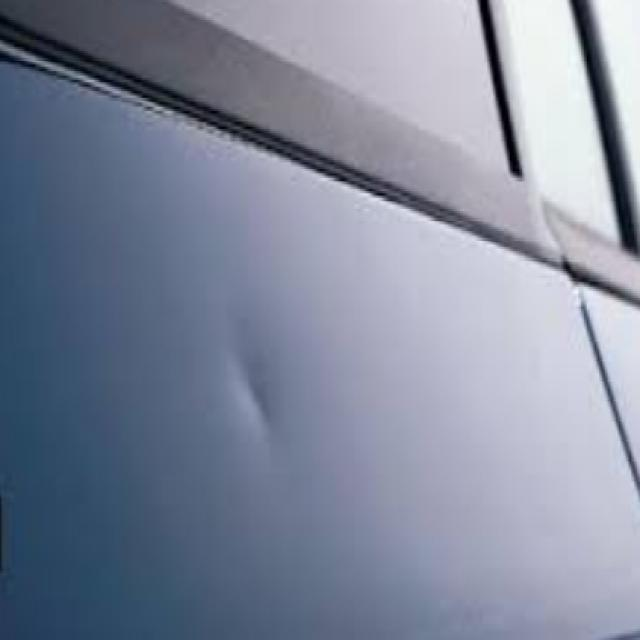dents: (210, 288, 322, 482)
